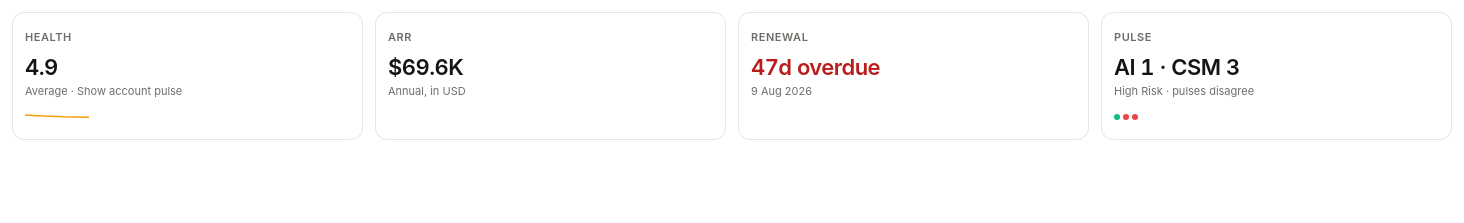
it: AccountTiles (spec 2026-09-29 §2.3) › shows the read's failure in place of the pulse
Click the button "Health 4.9 Average · Show account pulse": (48, 37) [13, 13, 362, 139]
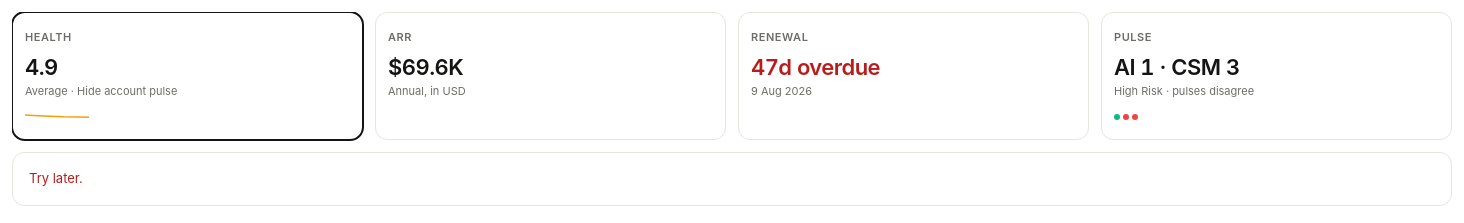
Expected: the message reads "Try later.", [29, 170, 83, 186]
